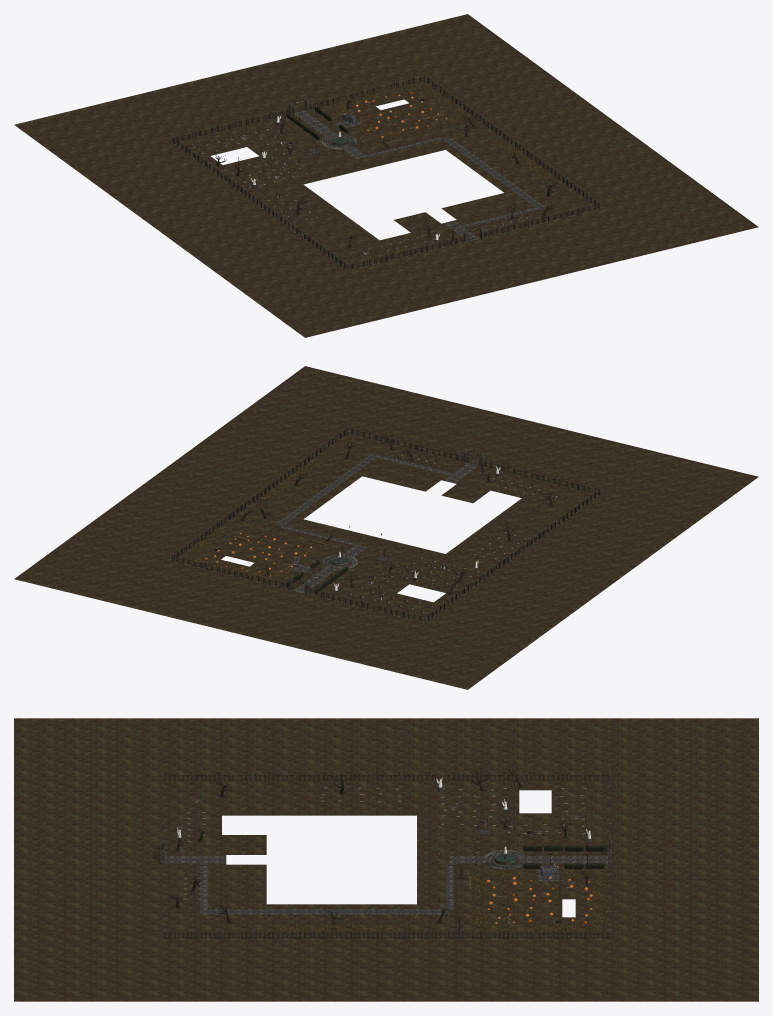
File: grounds.glb
3 views of the same model, one above another, from view 1: azimuth 30°, elevation 25°; view 2: azimuth 150°, elevation 25°; view 3: azimuth 270°, elevation 25° (orthographic). The views are drawn at different scales.
Visible parts, largest first — view 1: grounds; view 2: grounds; view 3: grounds.
Boxes of the visible parts, <box> form: grounds: <box>14,14,758,337</box>; grounds: <box>14,366,758,689</box>; grounds: <box>14,718,758,1001</box>.
Size of the model in its own units: 180 by 8.37 by 200.
Materials: 33 (23 with a texture image).
